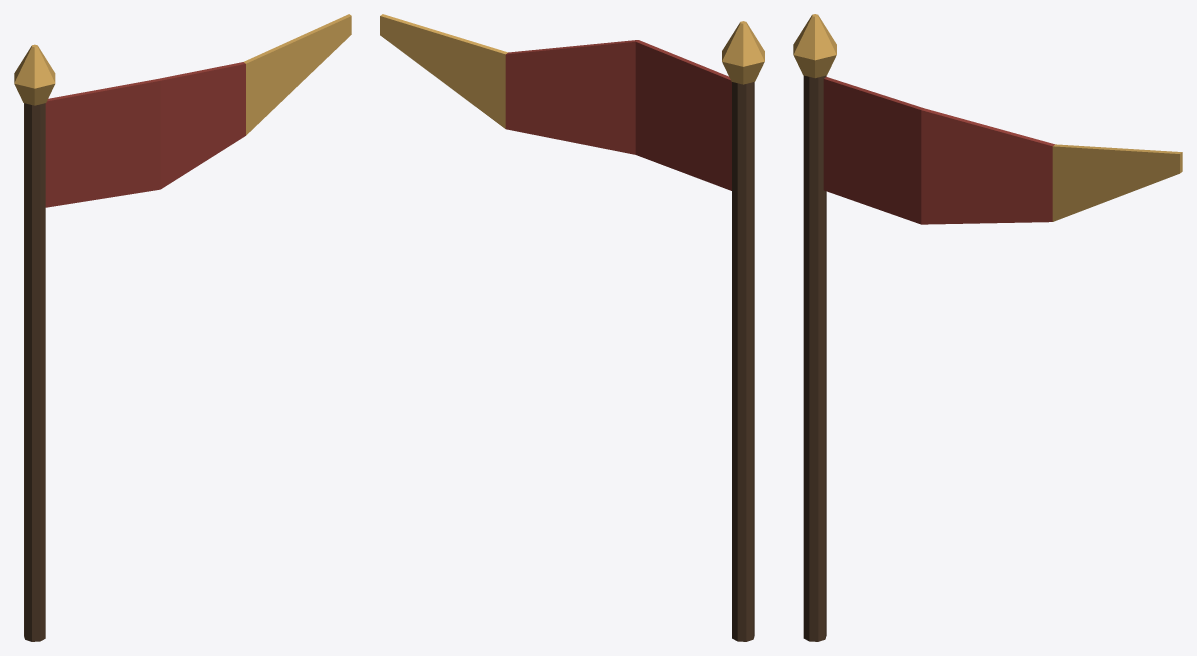
The model's file is forktower_pennon.glb.
3 views of the same model, side by side, from view 1: azimuth 30°, elevation 25°; view 2: azimuth 150°, elevation 25°; view 3: azimuth 330°, elevation 25° (orthographic). The views are drawn at different scales.
Parts seen in each view (by area): view 1: Forktower pennon; view 2: Forktower pennon; view 3: Forktower pennon.
Boxes of the visible parts, left/top/right/bottom form: Forktower pennon: left=14, top=14, right=351, bottom=641; Forktower pennon: left=380, top=14, right=764, bottom=641; Forktower pennon: left=793, top=14, right=1182, bottom=641.
Bounding box in the file's own units: 0.871 × 1.4 × 0.128.
